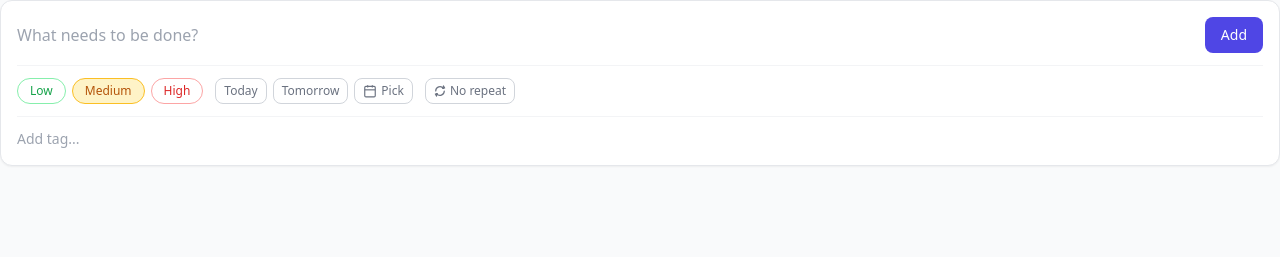
Test: TaskInput — repeat chip label › sorts day abbreviations correctly (Sa selected before Mo)
Click the button with aria-label "set repeat schedule": (470, 91) [425,78,515,104]
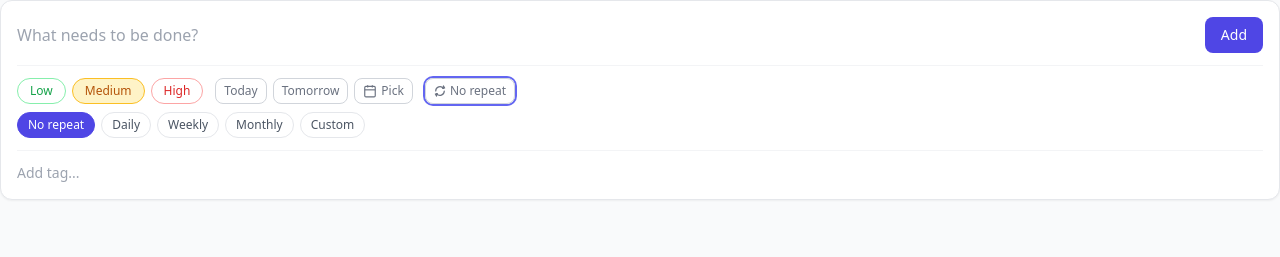
Click the button "Custom": (332, 125) [300,112,365,138]
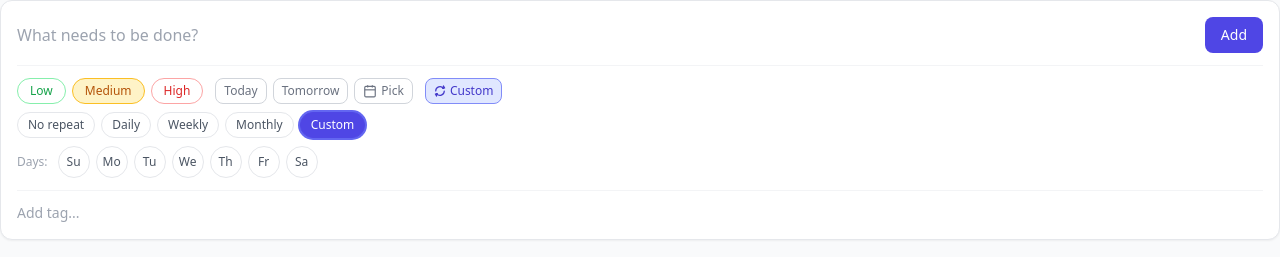
Click the button with aria-label "saturday": (302, 162) [286,146,318,178]
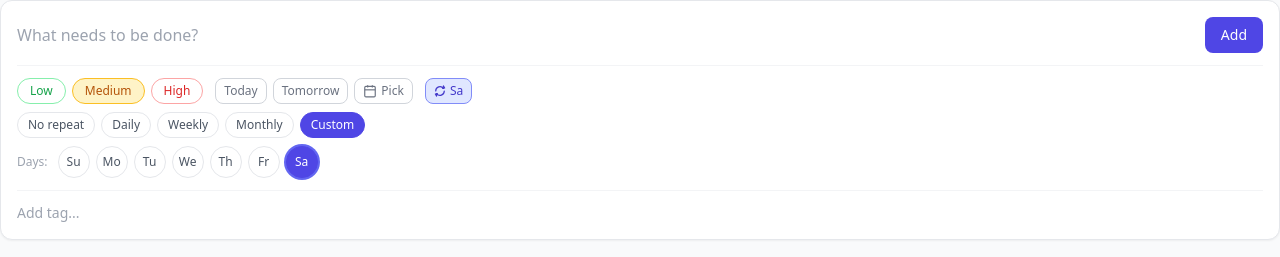
Click the button with aria-label "monday": (112, 162) [96,146,128,178]
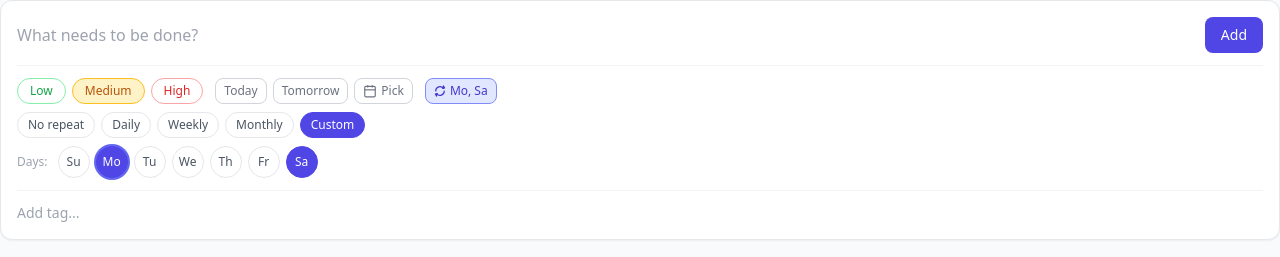
Expected: the button with aria-label "set repeat schedule" reads "Mo, Sa", [425,78,497,104]
